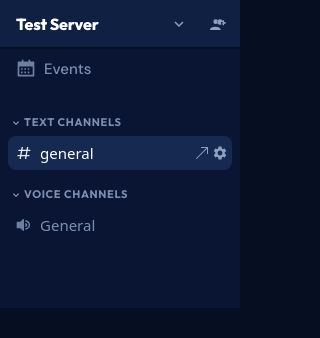
Test: ChannelSidebar › toggles server header dropdown on click
Step 1. Click the button with aria-label "Test Server server options" → (57, 24), box [16, 14, 188, 34]
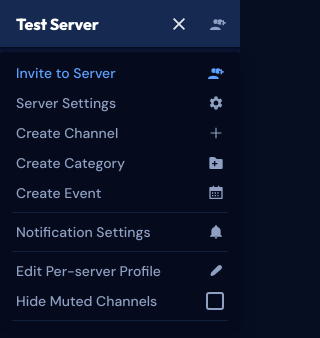
Check: the button with aria-label "Test Server server options" is expanded, box [16, 14, 188, 34]
